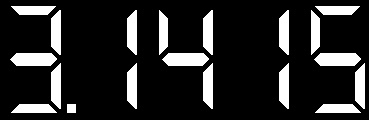dot: (65, 102, 78, 115)
five: (310, 4, 366, 113)
four: (157, 8, 214, 109)
one: (125, 8, 138, 111), (279, 10, 289, 110)
three: (8, 5, 61, 114)
